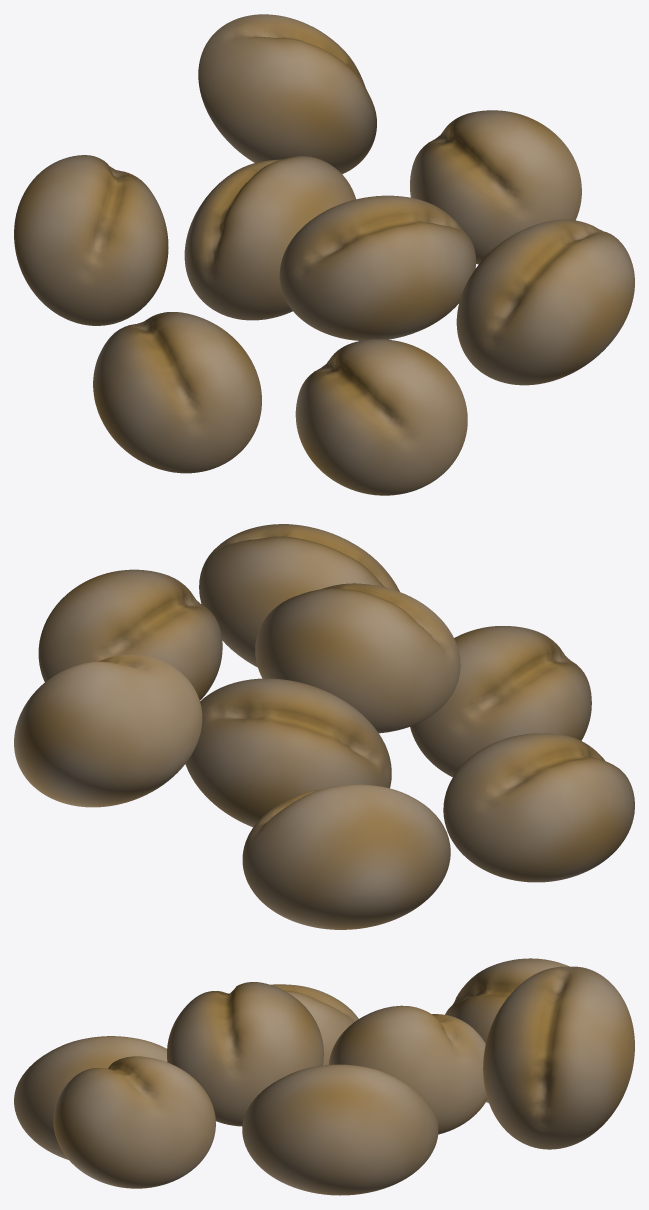
The model's file is coffee_beans.glb.
The picture shows the model from 3 angles, top to bottom: view 1: azimuth 30°, elevation 25°; view 2: azimuth 150°, elevation 25°; view 3: azimuth 270°, elevation 25°; orthographic projection. The views are drawn at different scales.
Parts seen in each view (by area): view 1: Object_2, Object_3, Object_4; view 2: Object_3, Object_2, Object_4; view 3: Object_2, Object_3, Object_4.
Part boxes in pixels (bbox=[...]): Object_2: bbox=[279, 195, 634, 495]; Object_3: bbox=[93, 110, 581, 473]; Object_4: bbox=[14, 14, 376, 325]; Object_3: bbox=[38, 569, 634, 882]; Object_2: bbox=[199, 524, 591, 777]; Object_4: bbox=[14, 654, 450, 929]; Object_2: bbox=[14, 982, 323, 1188]; Object_3: bbox=[242, 984, 487, 1195]; Object_4: bbox=[445, 958, 634, 1149].
Bounding box in the file's own units: 22.09 × 11 × 25.07.
